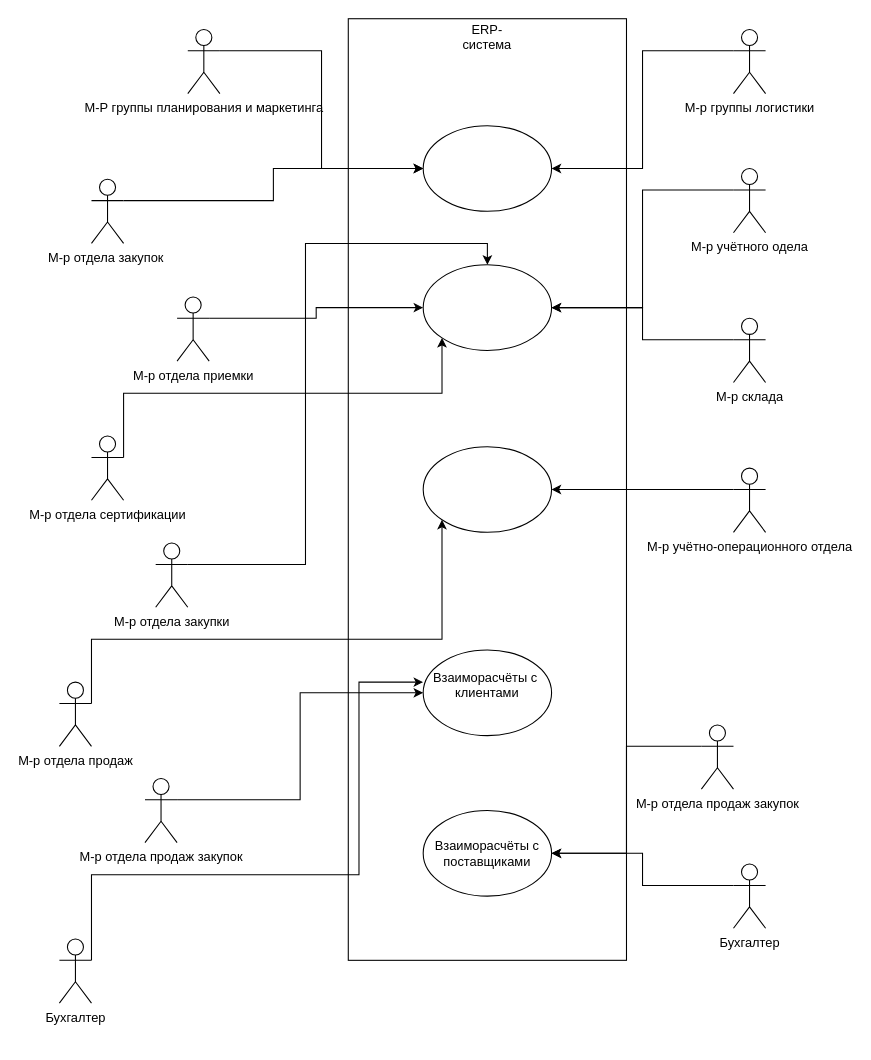
This 871x1060 diagram has some shape labels left out. Here are the shapes that lost their labels. From the top down, the centre of each, then its label:
(x=487, y=168): Планирование и размещение заказов
(x=487, y=307): Запасы,склад
(x=487, y=489): Продажи
